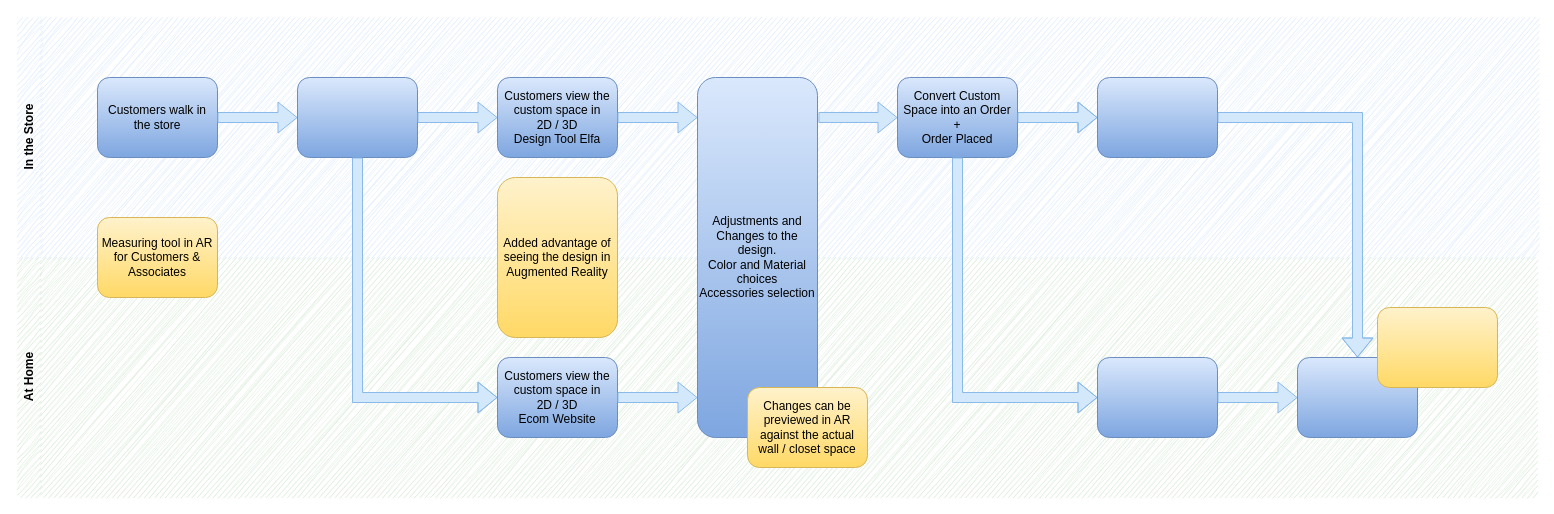
The diagram is 1554 pixels wide and 514 high, and some of its shapes have lost their labels. Each missing label, with the box of its shape:
Associate helps design a custom space at CDC using Design Tool Elfa: (296, 76, 418, 158)
Delivery: (1096, 356, 1218, 438)
Guided installation instructions can be provided via AR: (1376, 306, 1498, 388)
Installation: (1296, 356, 1418, 438)
Pickup: (1096, 76, 1218, 158)
